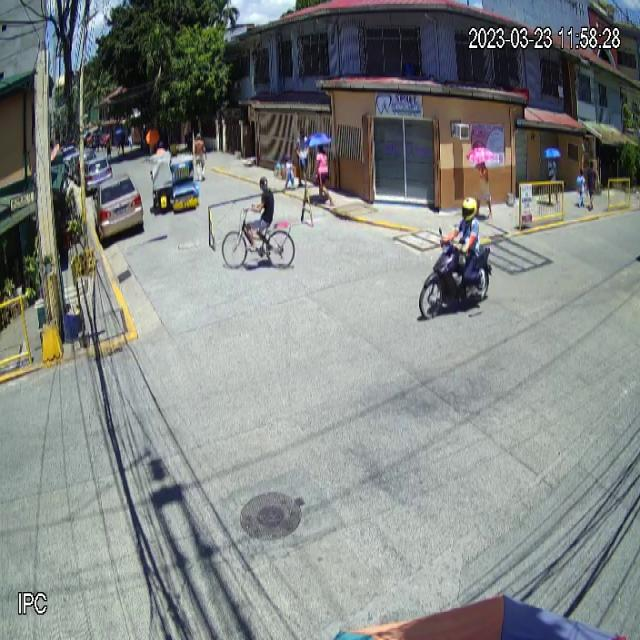Car: (92, 172, 144, 242)
Motorcycle: (418, 226, 494, 320)
